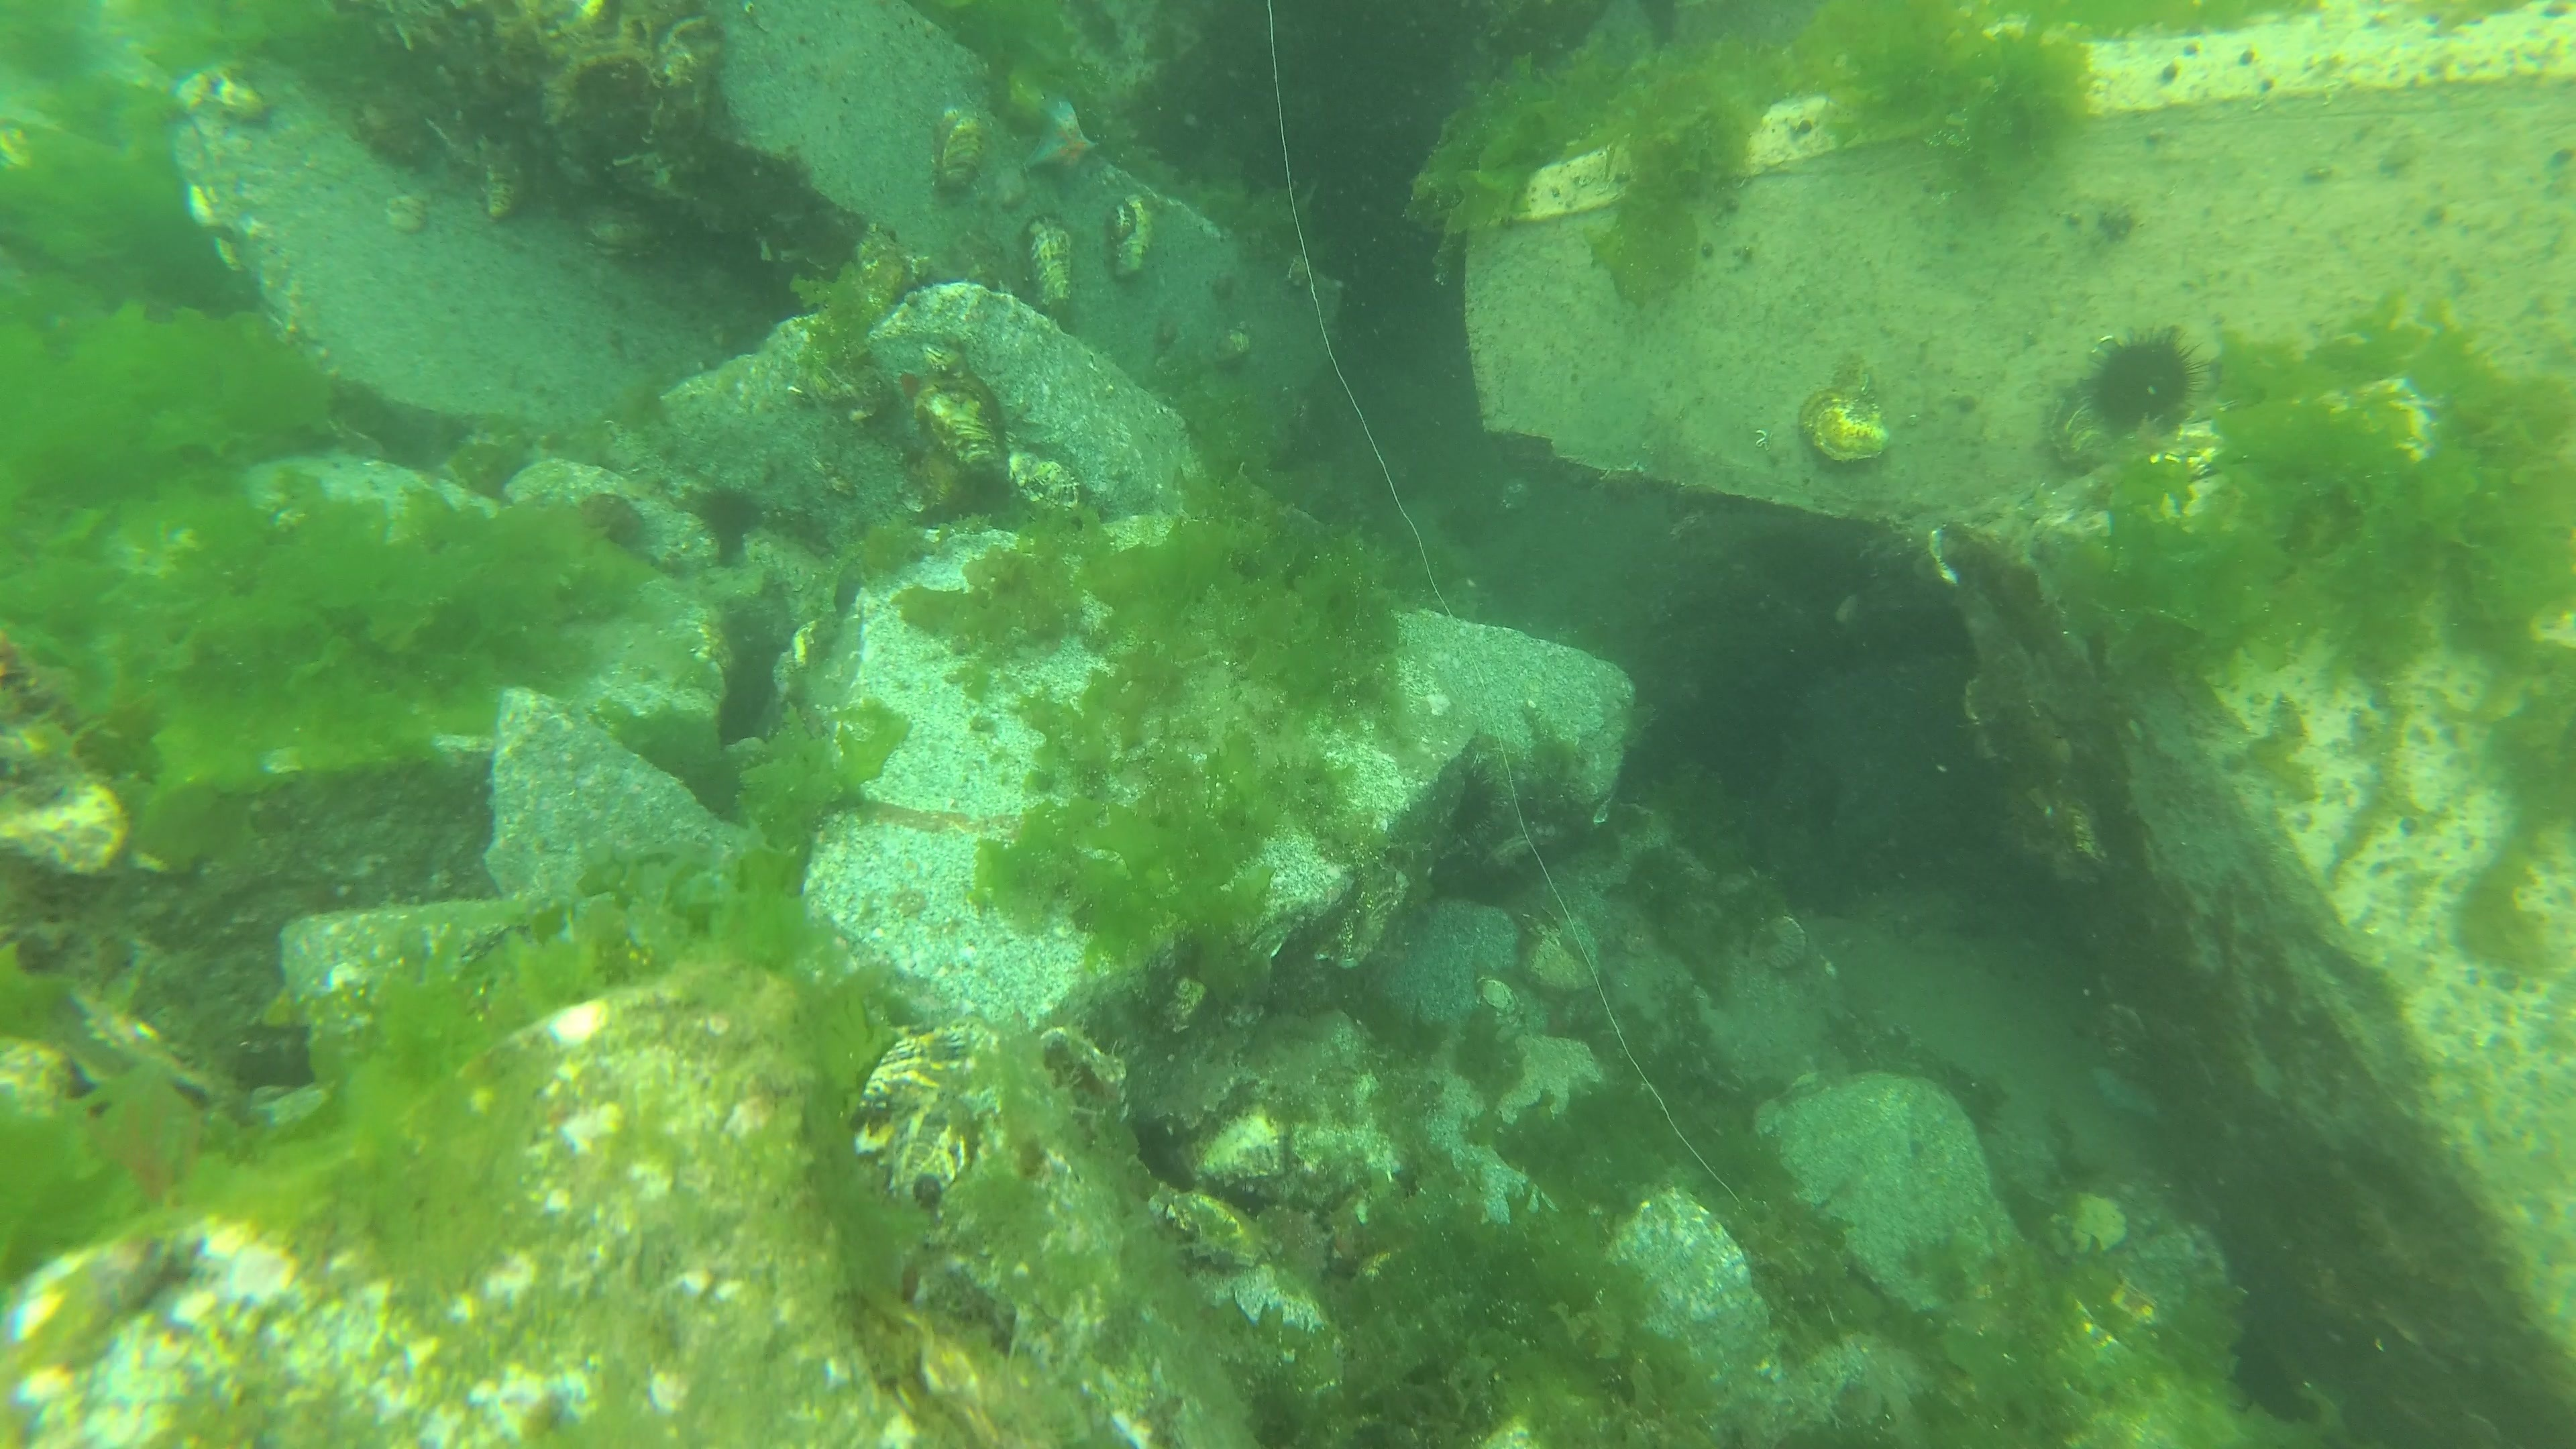echinus: (2072, 326, 2206, 439), (1453, 748, 1504, 847), (694, 481, 764, 548)
scallop: (1748, 915, 1810, 971)
starfish: (1023, 92, 1100, 179)
